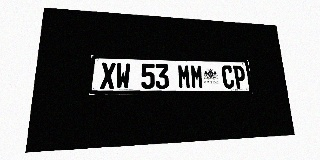3: (155, 64, 169, 89)
5: (141, 63, 155, 89)
C: (221, 65, 235, 88)
M: (177, 64, 191, 89), (190, 64, 204, 89)
P: (233, 65, 246, 88)
W: (115, 63, 130, 89)
X: (100, 62, 116, 89)
